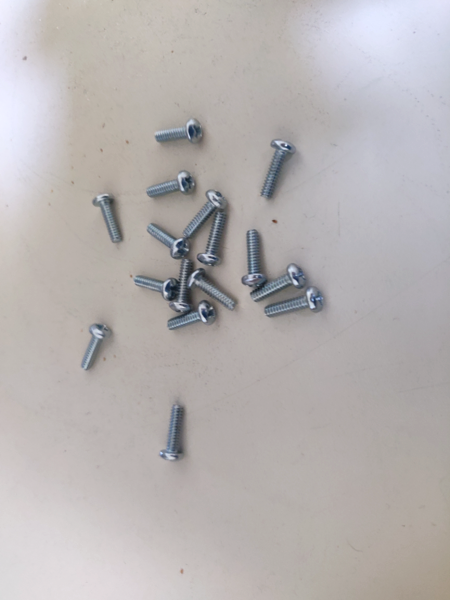shortscrew: (251, 264, 308, 303), (261, 139, 297, 199), (184, 190, 228, 239), (187, 268, 237, 311), (264, 287, 324, 318), (197, 212, 227, 267), (167, 300, 218, 331), (147, 223, 190, 259), (81, 323, 112, 372), (91, 194, 122, 243), (159, 404, 184, 462), (169, 258, 194, 315), (147, 171, 196, 199), (242, 230, 266, 287), (155, 118, 203, 146), (132, 276, 179, 303)
